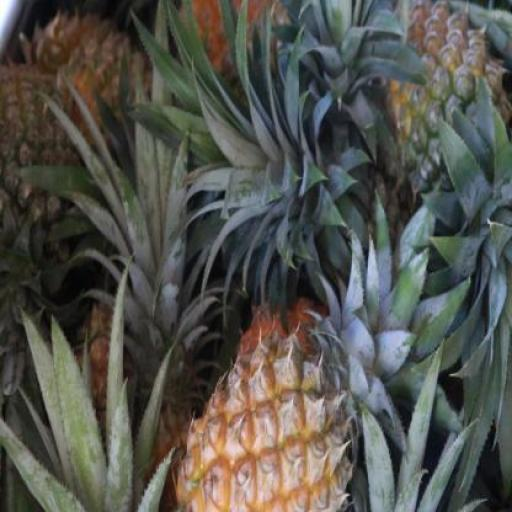------------------------------: (379, 0, 512, 212)
Pineapple - v8 v1: (174, 318, 354, 512)
